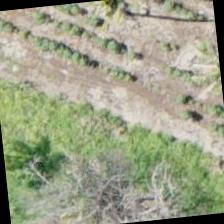Kelapa_Sawit: (70, 0, 166, 55)
